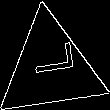L_W: (25, 49, 76, 87)
